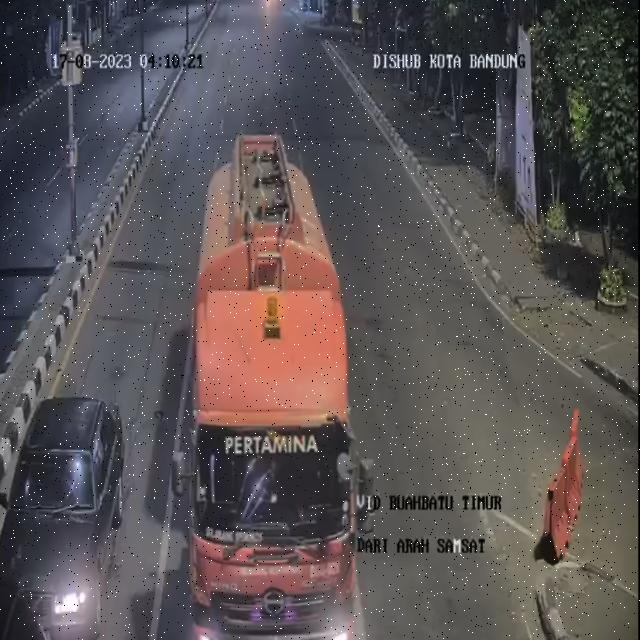cars: (0, 397, 128, 640)
motorcycle: (0, 581, 43, 640)
truck: (181, 123, 366, 640)
